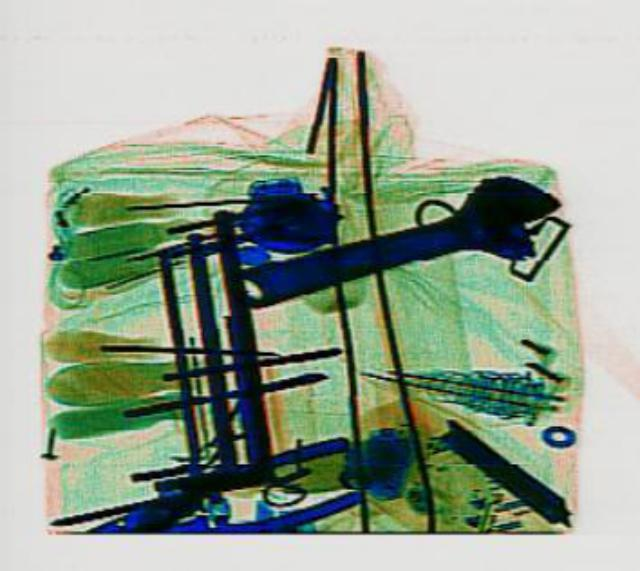Pliers: (82, 431, 368, 568)
Wrench: (214, 158, 574, 333)
